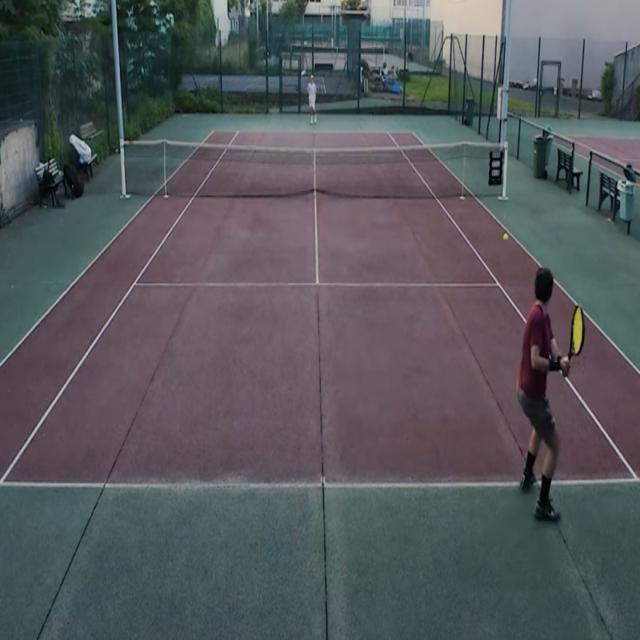ball: (502, 232, 509, 242)
